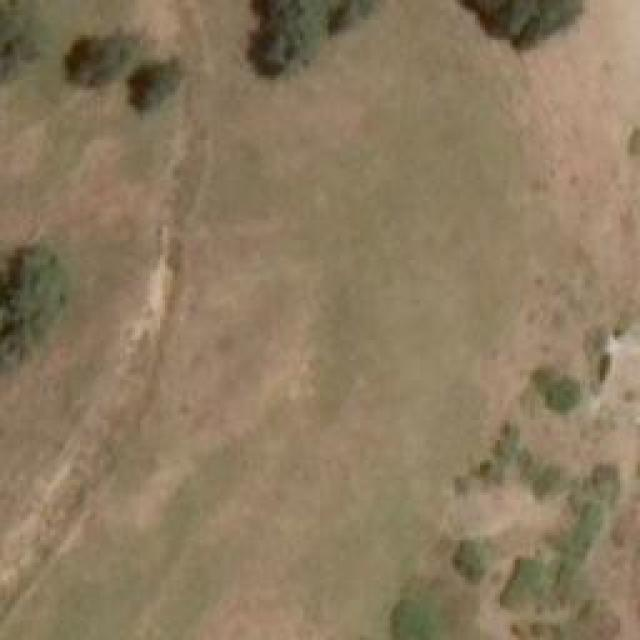Tree: (242, 0, 370, 65), (0, 240, 68, 345), (458, 0, 588, 48), (73, 30, 133, 85), (500, 552, 555, 610), (130, 55, 183, 108), (387, 597, 440, 640), (453, 535, 496, 583), (543, 377, 573, 405)
